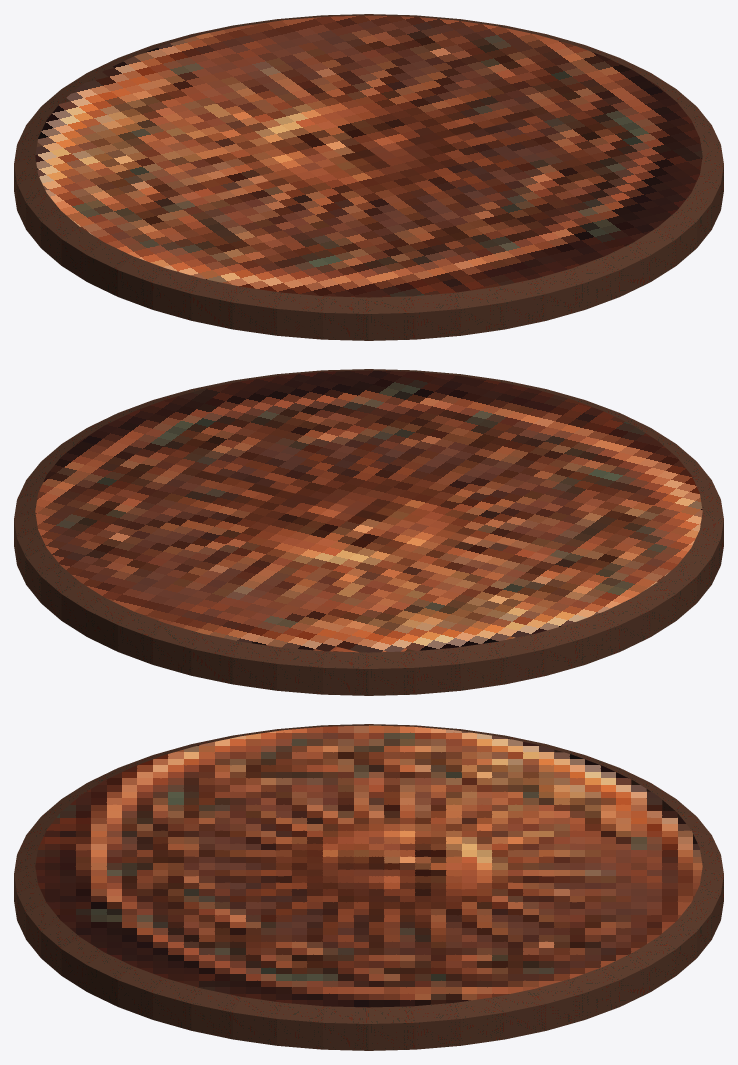
Rendered from copper.obj.
The picture shows the model from 3 angles, top to bottom: view 1: azimuth 30°, elevation 25°; view 2: azimuth 150°, elevation 25°; view 3: azimuth 270°, elevation 25°; orthographic projection.
Parts seen in each view (by area): view 1: CaelumDropCoin_copper; view 2: CaelumDropCoin_copper; view 3: CaelumDropCoin_copper.
Part boxes in pixels (x1,y1,x2,y2): CaelumDropCoin_copper: (14, 14, 723, 340); CaelumDropCoin_copper: (14, 369, 723, 695); CaelumDropCoin_copper: (14, 724, 723, 1050).
Bounding box in the file's own units: 46 × 3 × 46.
1 material, 1 textured.
